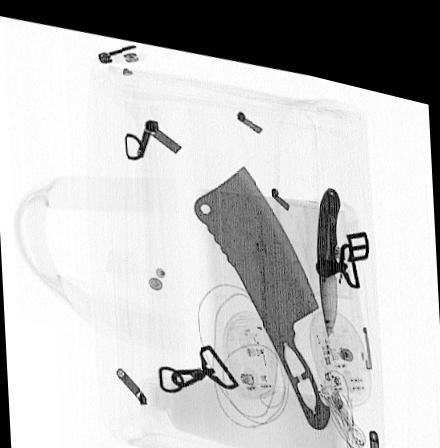Knife: (193, 152, 332, 414), (314, 171, 342, 321)
